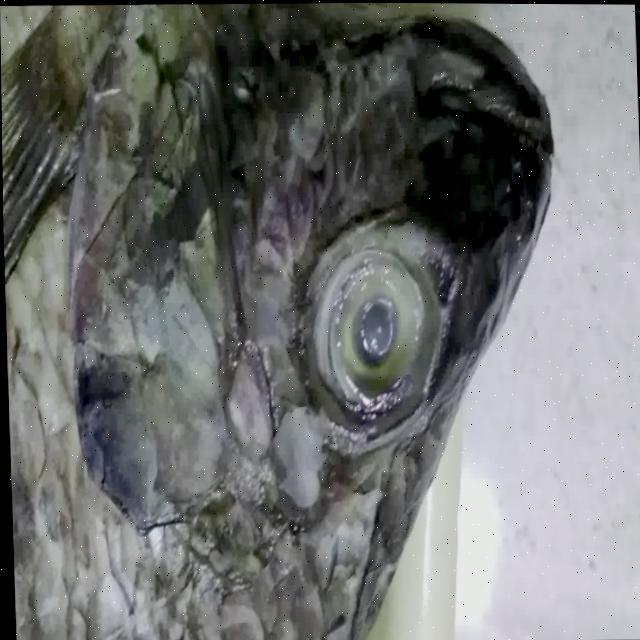Non-Fresh: (303, 244, 436, 426)
